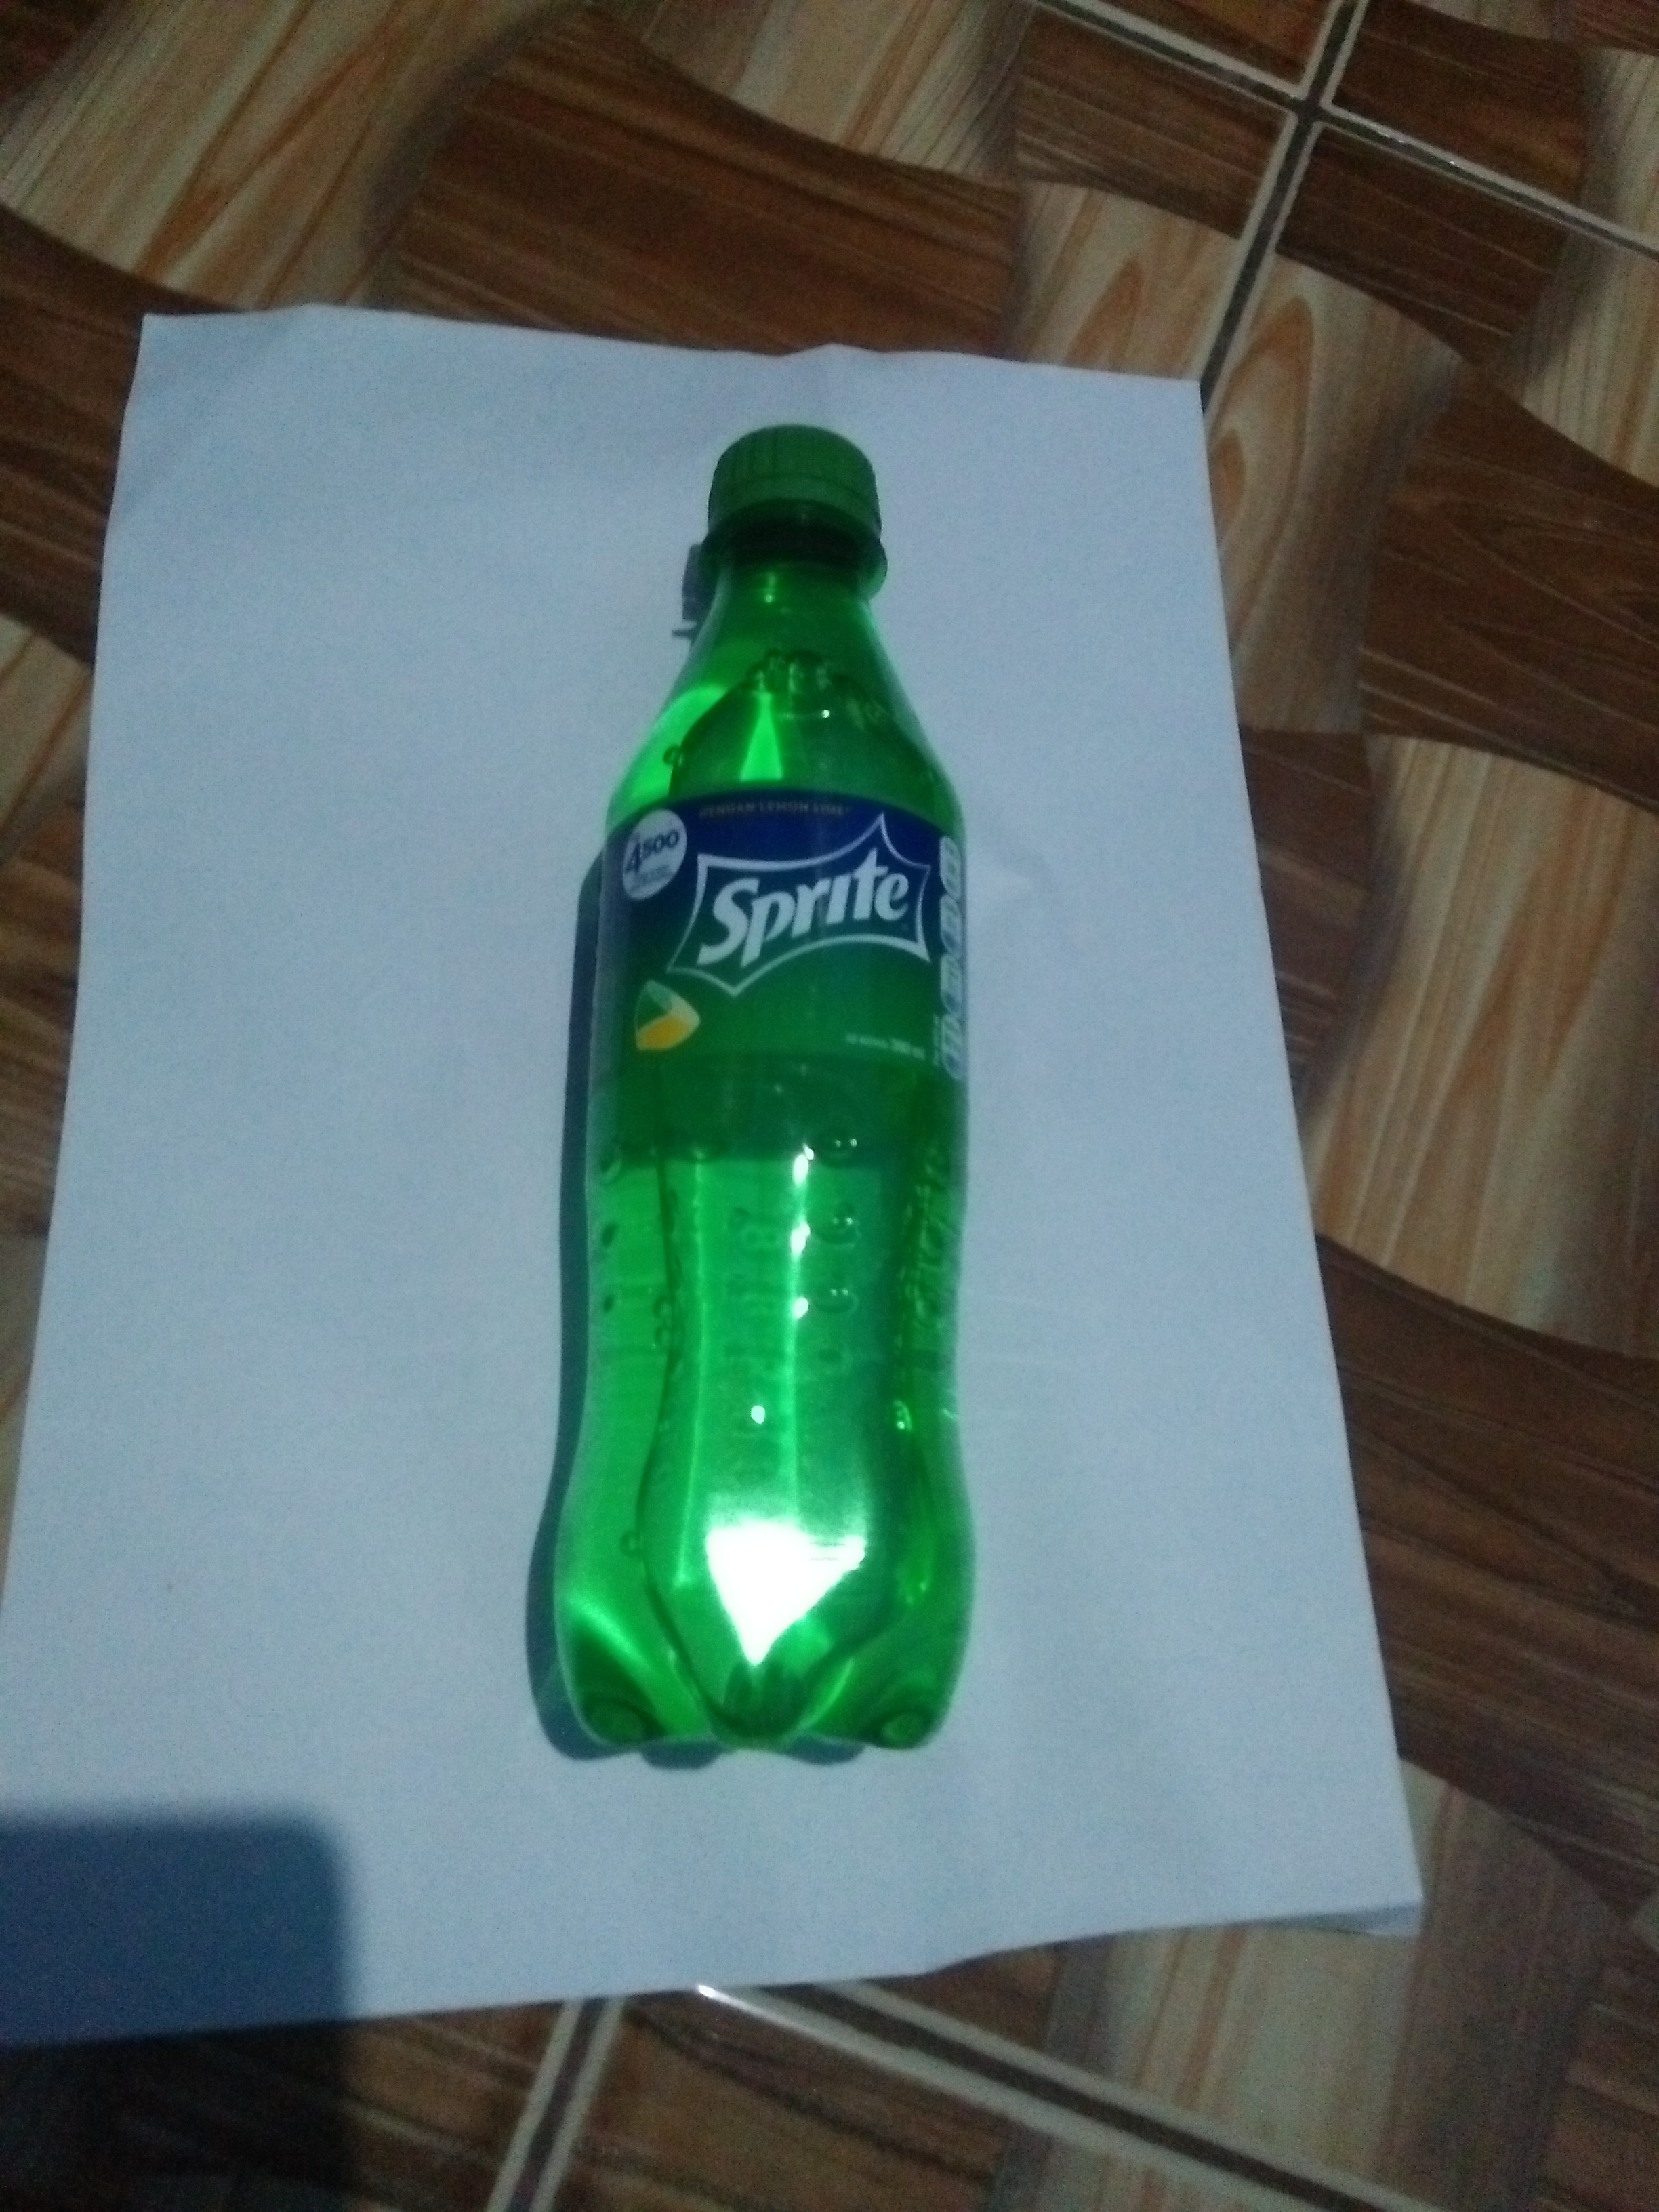Sprite: (528, 406, 1021, 1794)
